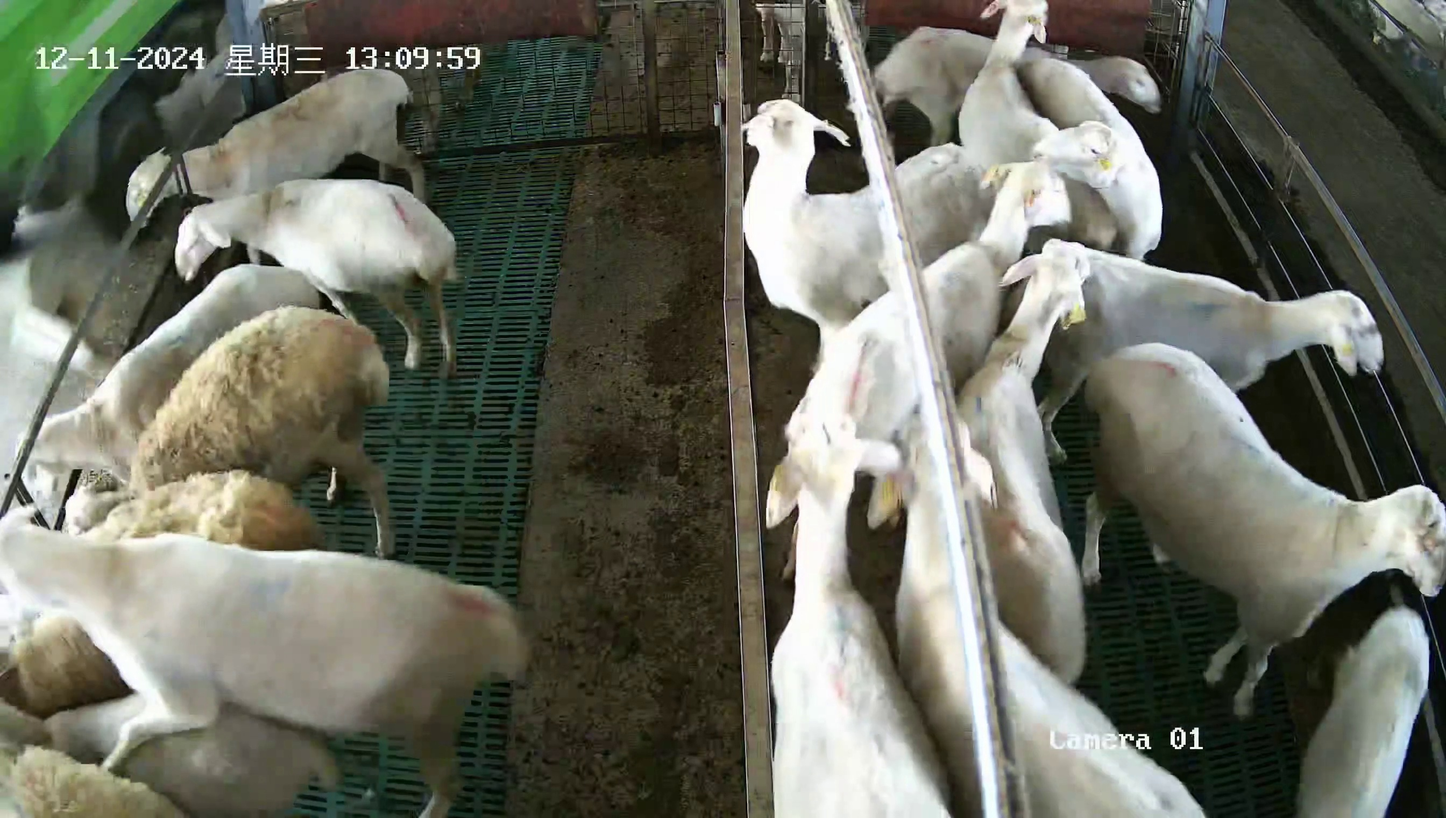Nmounting: (1, 516, 524, 816)
